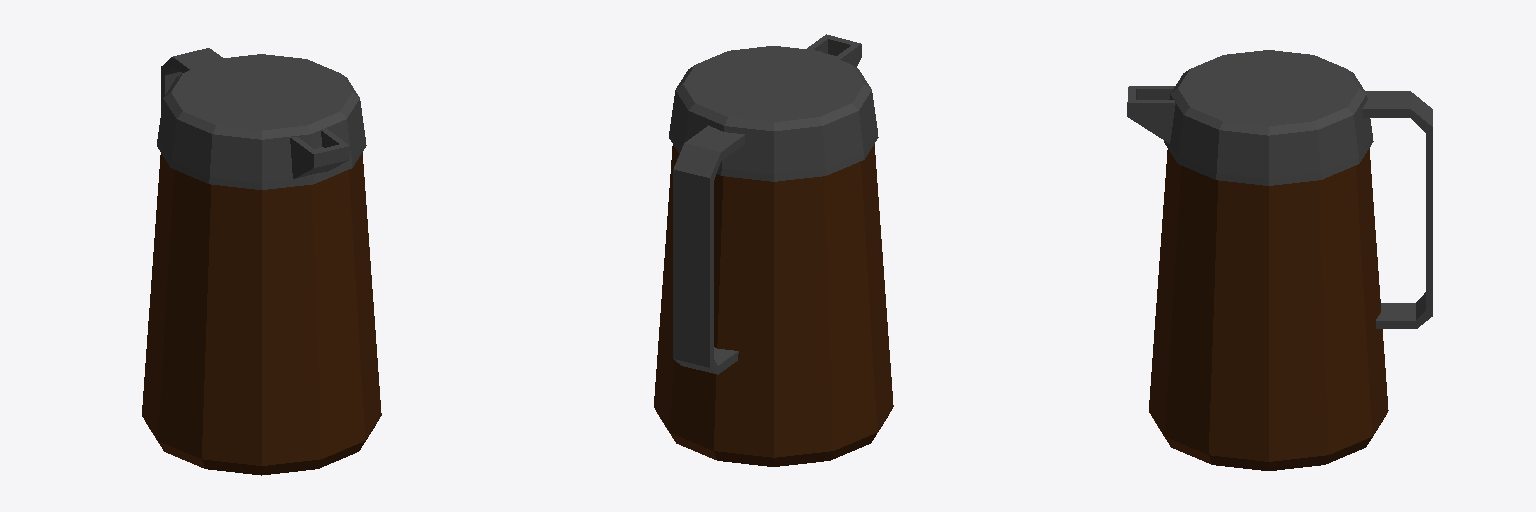
The model's file is WaterPot.obj.
3 views of the same model, side by side, from view 1: azimuth 30°, elevation 25°; view 2: azimuth 150°, elevation 25°; view 3: azimuth 270°, elevation 25° (orthographic).
Visible parts, largest first — view 1: Cube.001_Cube.002; view 2: Cube.001_Cube.002; view 3: Cube.001_Cube.002.
Part boxes in pixels (x1,y1,x2,y2): Cube.001_Cube.002: (142,48,381,475); Cube.001_Cube.002: (654,34,893,466); Cube.001_Cube.002: (1127,50,1432,470).
Size of the model in its own units: 2 by 3.09 by 2.54.